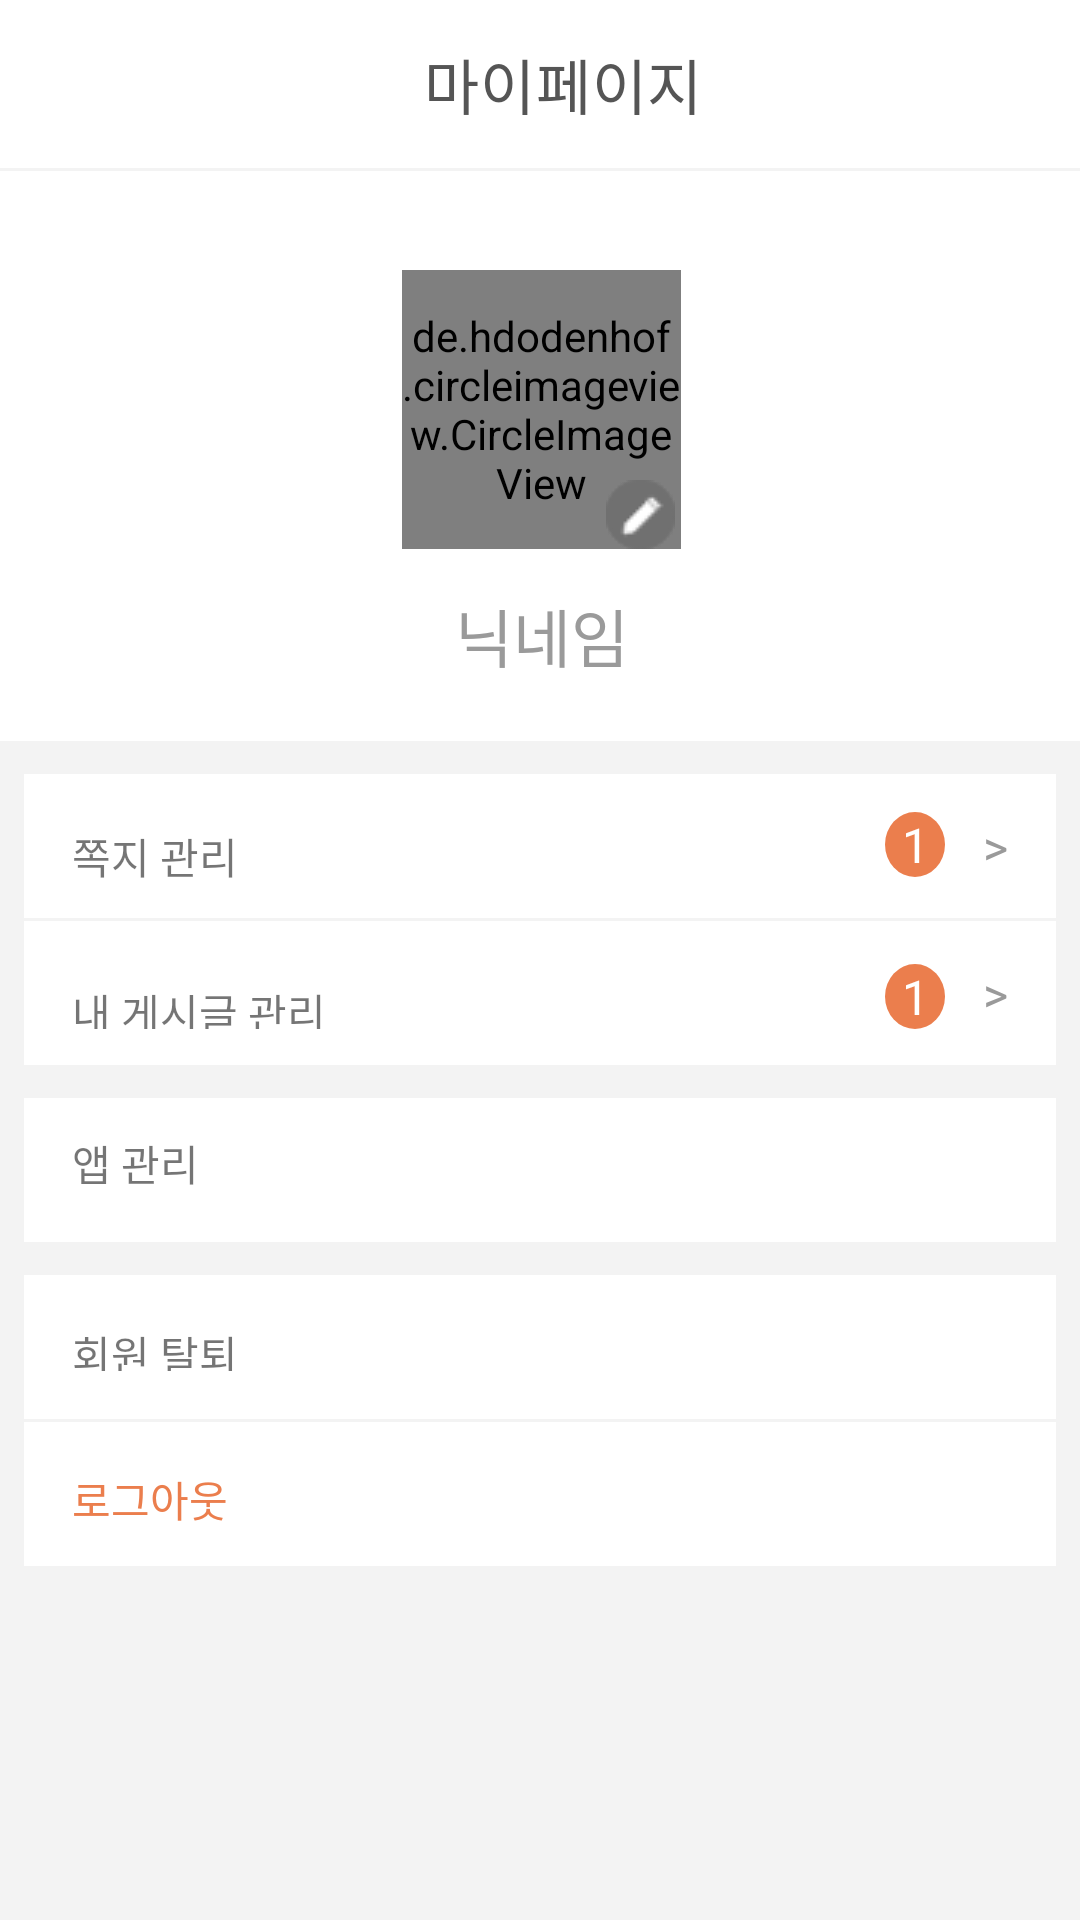

Named icons in this screenshot (1080x1920) and their bounding boxes, BBox(x1, y1, x2, y2):
mypage edit: BBox(606, 480, 675, 549)
